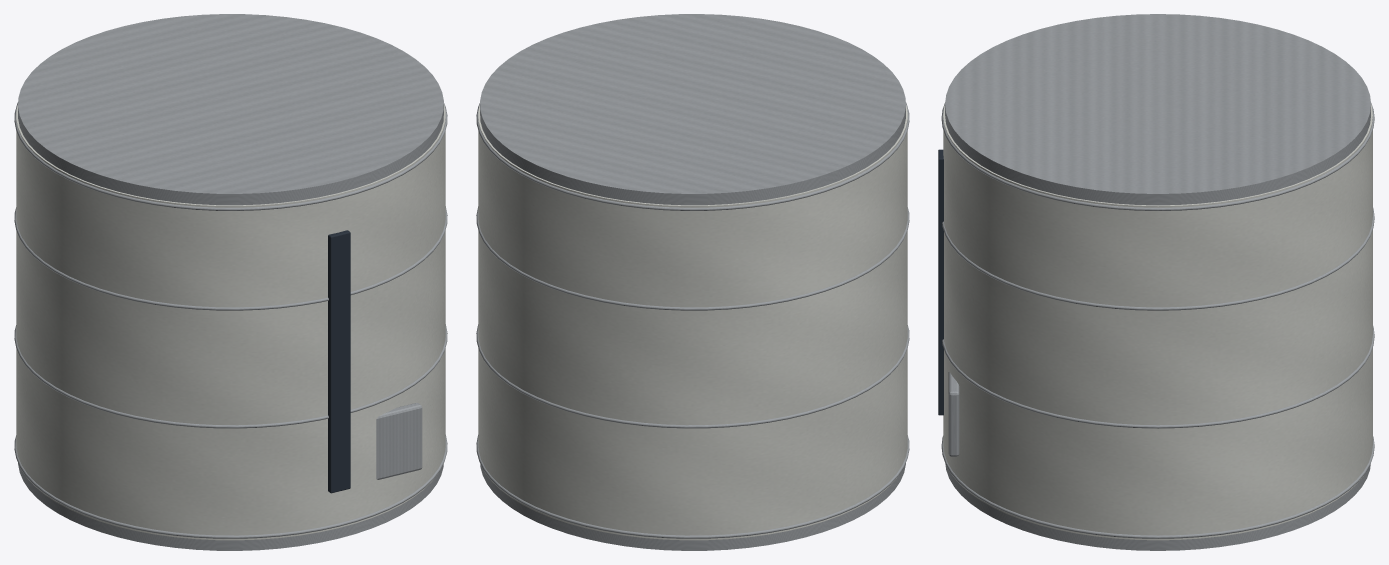
The model's file is upper_stage_body.glb.
3 renders of one model, left to right at view 1: azimuth 30°, elevation 25°; view 2: azimuth 150°, elevation 25°; view 3: azimuth 270°, elevation 25°, orthographic.
Visible parts, largest first — view 1: Stage_PressureShell.002, Top_EndCap.002, Cable_Raceway.002, Base_EndCap.002, Access_Panel.002, Stage_WeldSeam.011, Stage_WeldSeam.008, Stage_WeldSeam.009, Stage_WeldSeam.010; view 2: Stage_PressureShell.002, Top_EndCap.002, Base_EndCap.002, Stage_WeldSeam.011, Stage_WeldSeam.009, Stage_WeldSeam.008, Stage_WeldSeam.010; view 3: Stage_PressureShell.002, Top_EndCap.002, Base_EndCap.002, Stage_WeldSeam.011, Stage_WeldSeam.008, Stage_WeldSeam.010, Stage_WeldSeam.009, Cable_Raceway.002, Access_Panel.002.
Boxes of the visible parts, x1,y1,x2,y2 form: Stage_PressureShell.002: (16,104,445,540); Top_EndCap.002: (18,14,443,205); Cable_Raceway.002: (328,230,350,493); Base_EndCap.002: (18,463,443,550); Access_Panel.002: (376,403,422,479); Stage_WeldSeam.011: (14,102,447,210); Stage_WeldSeam.008: (14,435,447,538); Stage_WeldSeam.009: (14,324,447,428); Stage_WeldSeam.010: (14,206,447,310); Stage_PressureShell.002: (478,104,907,540); Top_EndCap.002: (480,14,905,205); Base_EndCap.002: (480,463,905,550); Stage_WeldSeam.011: (476,102,909,210); Stage_WeldSeam.009: (476,324,909,428); Stage_WeldSeam.008: (476,435,909,538); Stage_WeldSeam.010: (476,206,909,310); Stage_PressureShell.002: (943,104,1372,540); Top_EndCap.002: (945,14,1370,205); Base_EndCap.002: (945,464,1370,550); Stage_WeldSeam.011: (941,102,1374,210); Stage_WeldSeam.008: (941,436,1374,538); Stage_WeldSeam.010: (942,208,1374,310); Stage_WeldSeam.009: (942,326,1374,428); Cable_Raceway.002: (938,149,943,415); Access_Panel.002: (948,372,959,456).
Bounding box in the file's own units: 2.42 × 2.2 × 2.44.
Materials: 3 (2 with a texture image).
